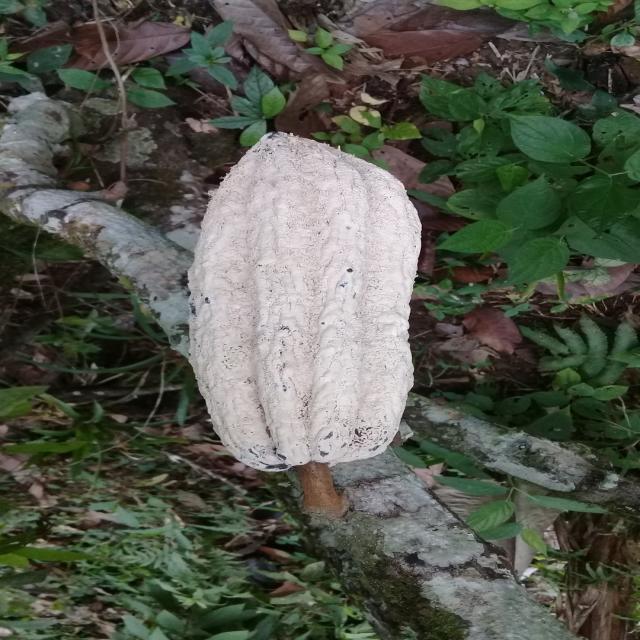Monilia: (186, 127, 424, 478)
